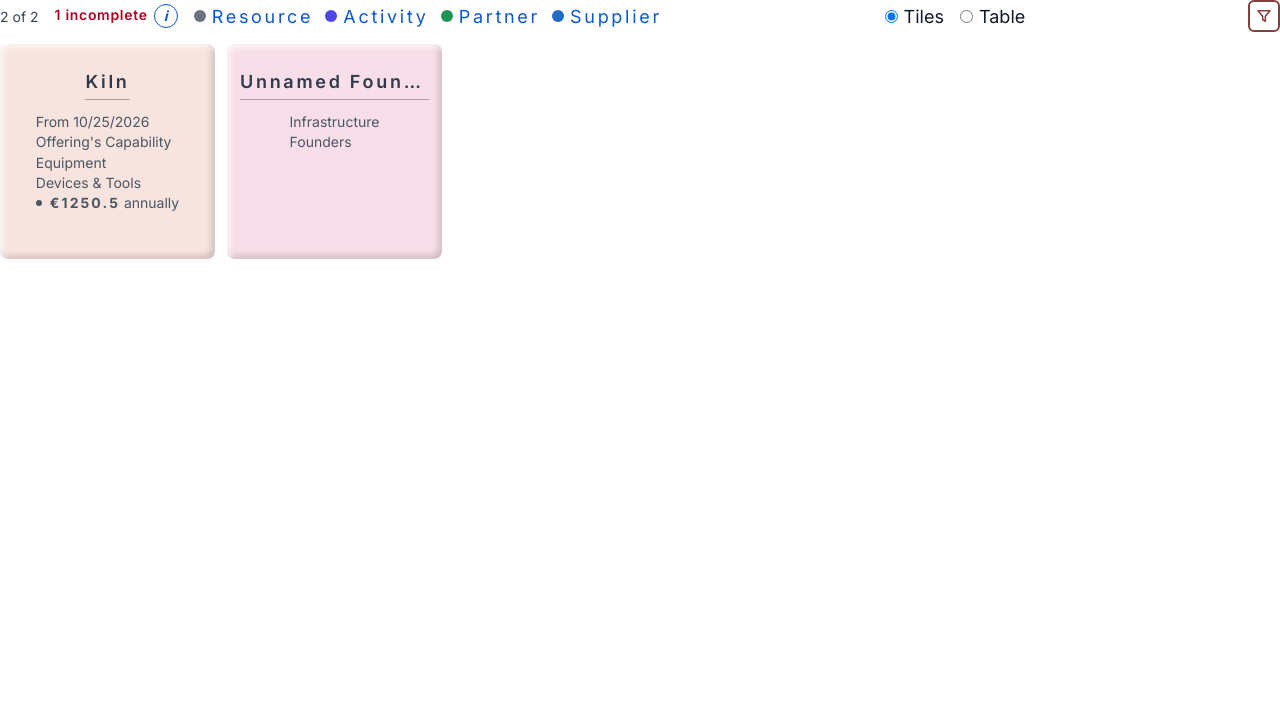
Test: the table › writes the currency once, in the header of the Cost column, and the cost as a number
Click the radio button labelled "Table": (966, 16) [960,10,973,22]
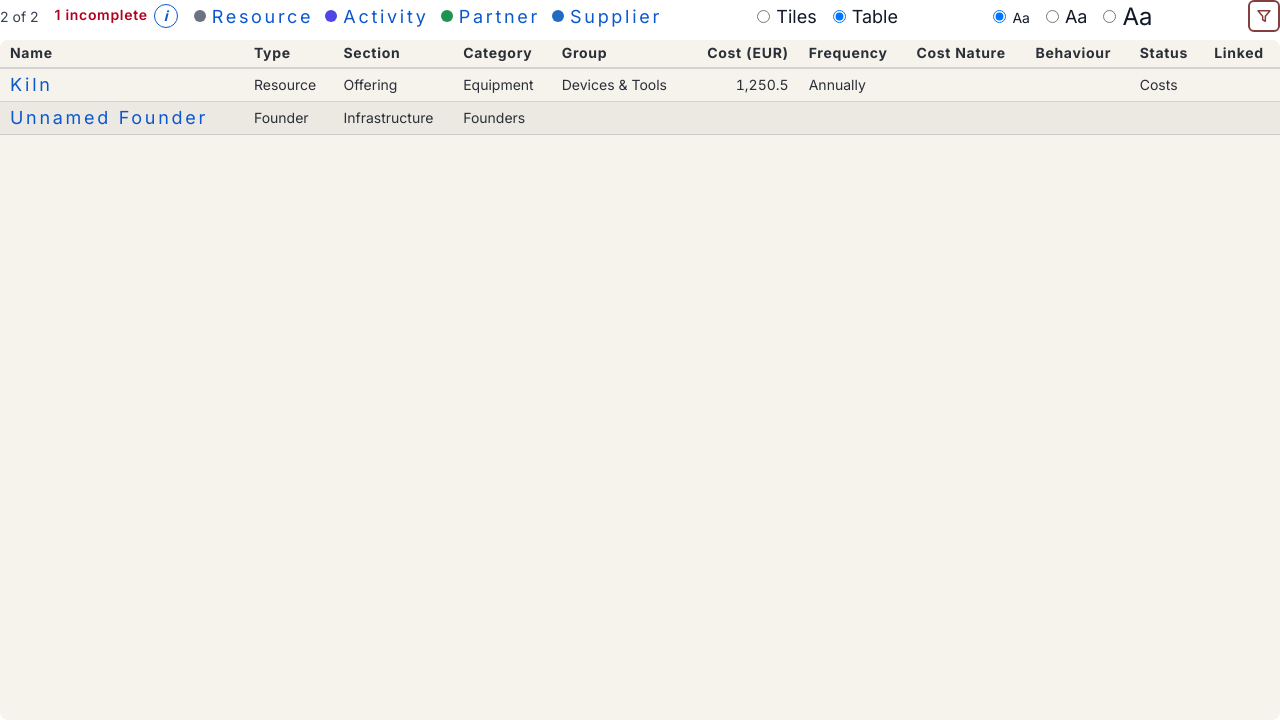
Now the column heading "Cost (EUR)" is shown, box [688,40,799,69]
